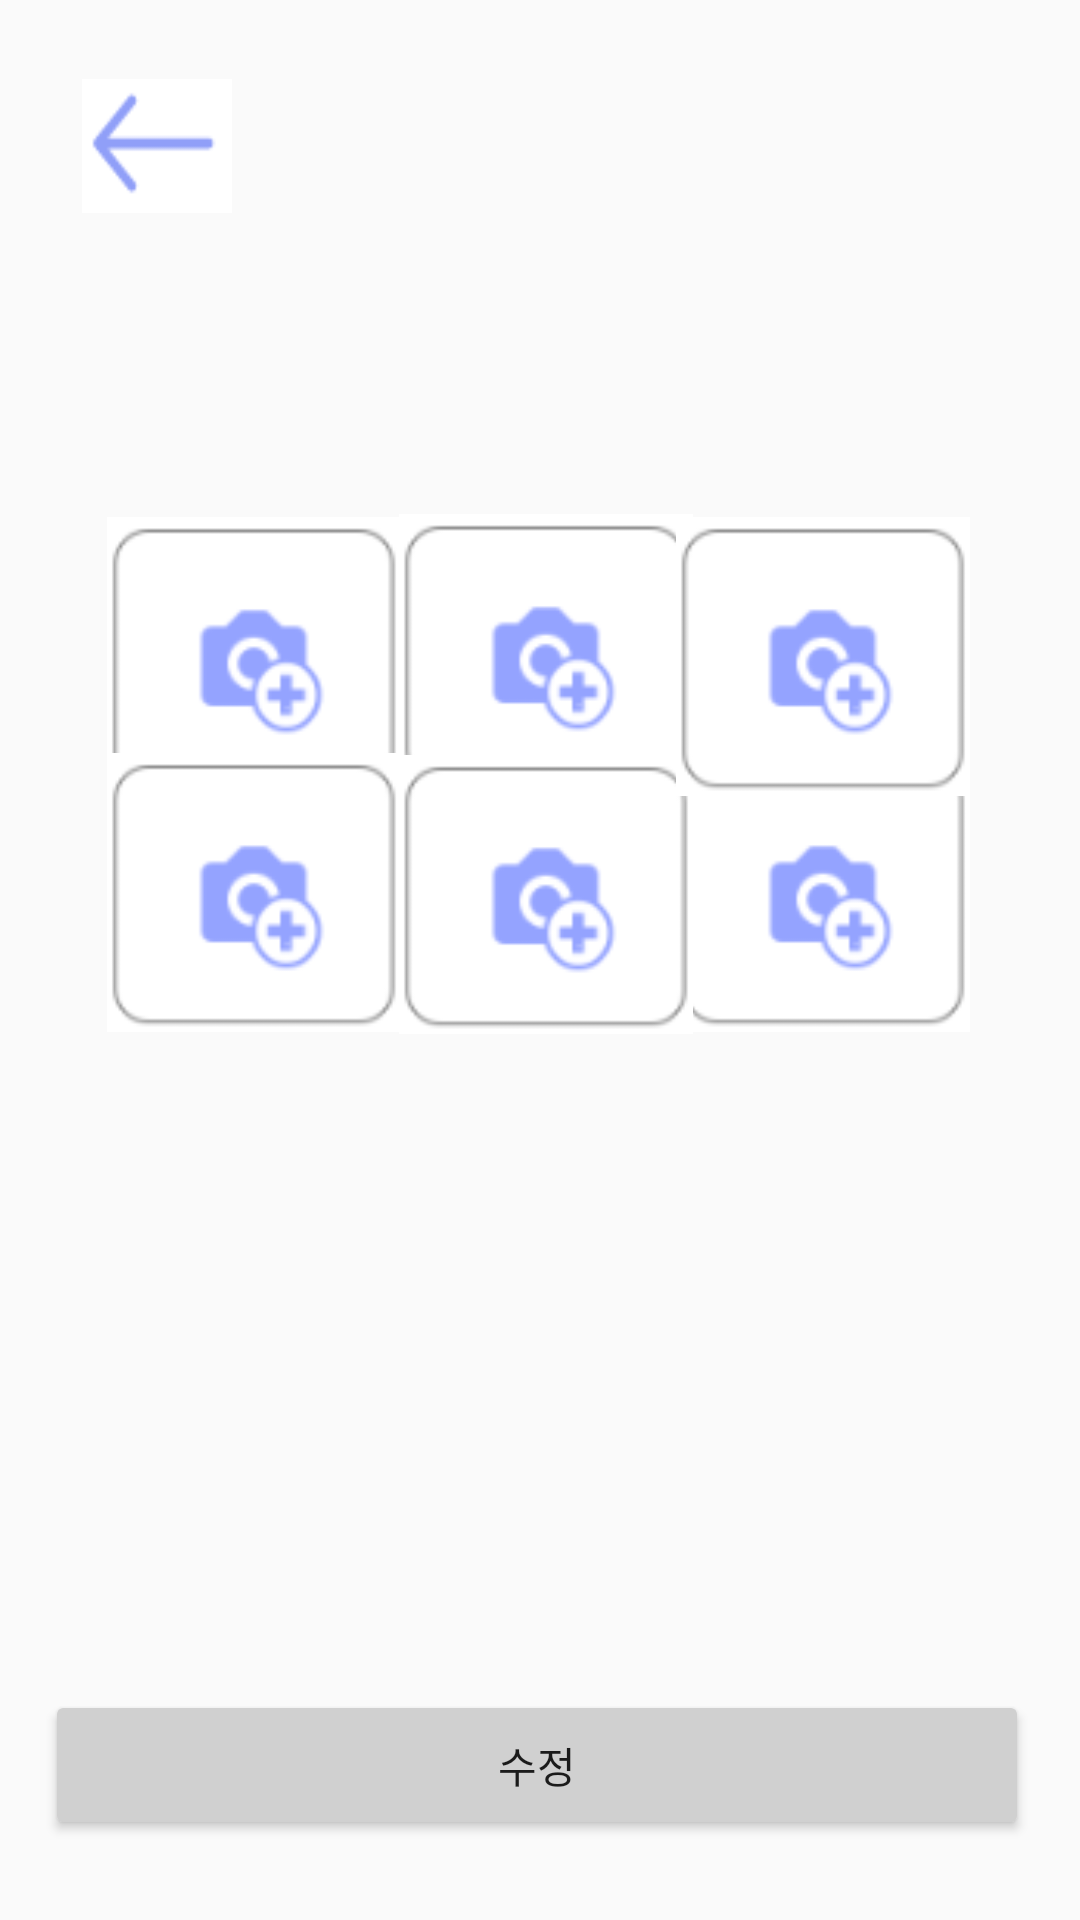

Icon click points for this 1080w x 1920h phone screenshot, format point (x, y):
arrow: point (153, 143)
camera: point (540, 640), point (823, 658), point (253, 641), point (253, 894), point (546, 896), point (829, 910)
